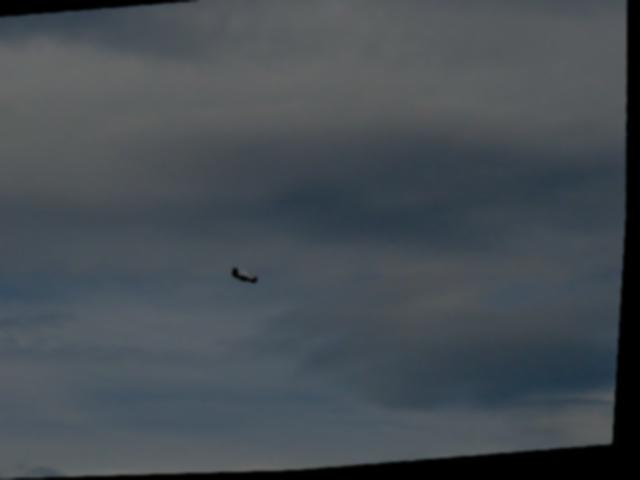plane: (235, 268, 262, 286)
